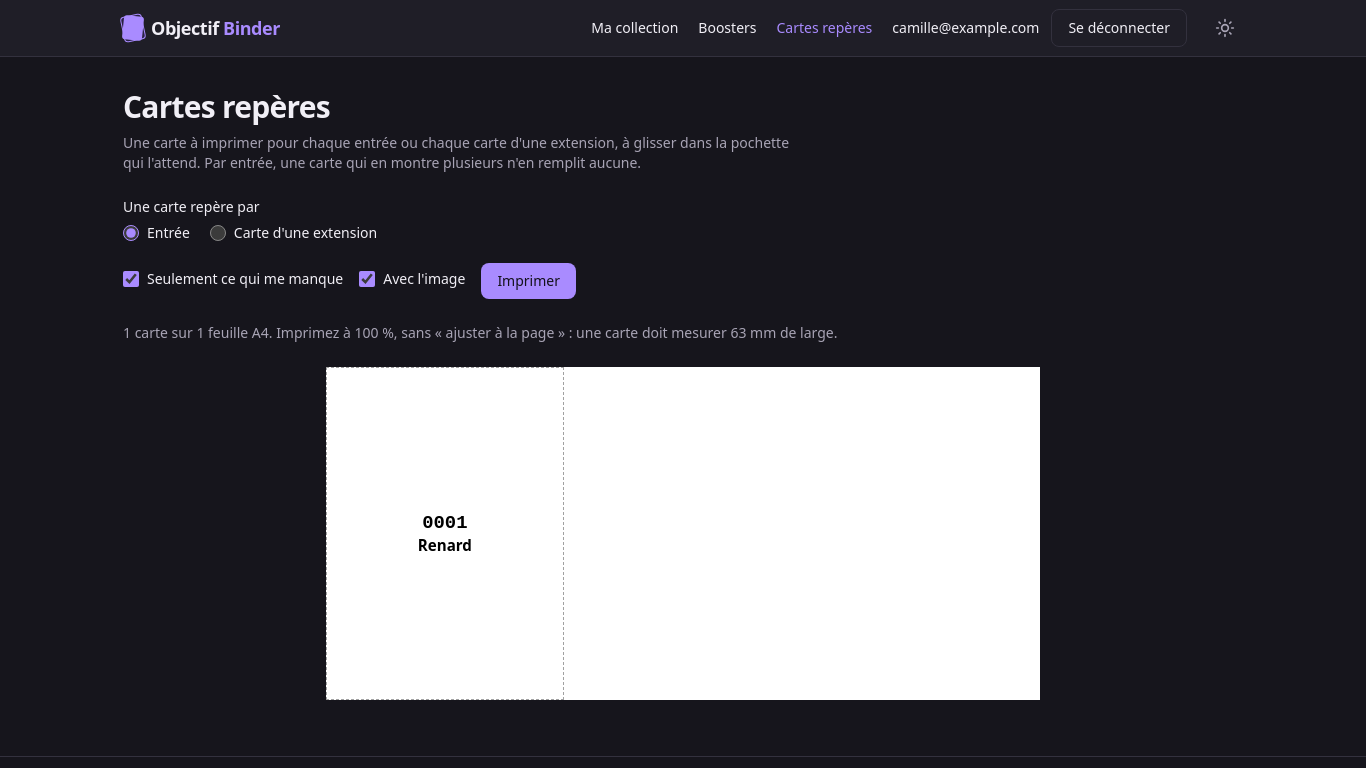
Test: placeholders to print › prints every identity once told not to keep to what is missing
Check: the text "Renard" is shown, box left=418, top=535, right=472, bottom=555
Click the checkbox labelled "Seulement ce qui me manque".
click(131, 279)  # box left=123, top=271, right=139, bottom=287
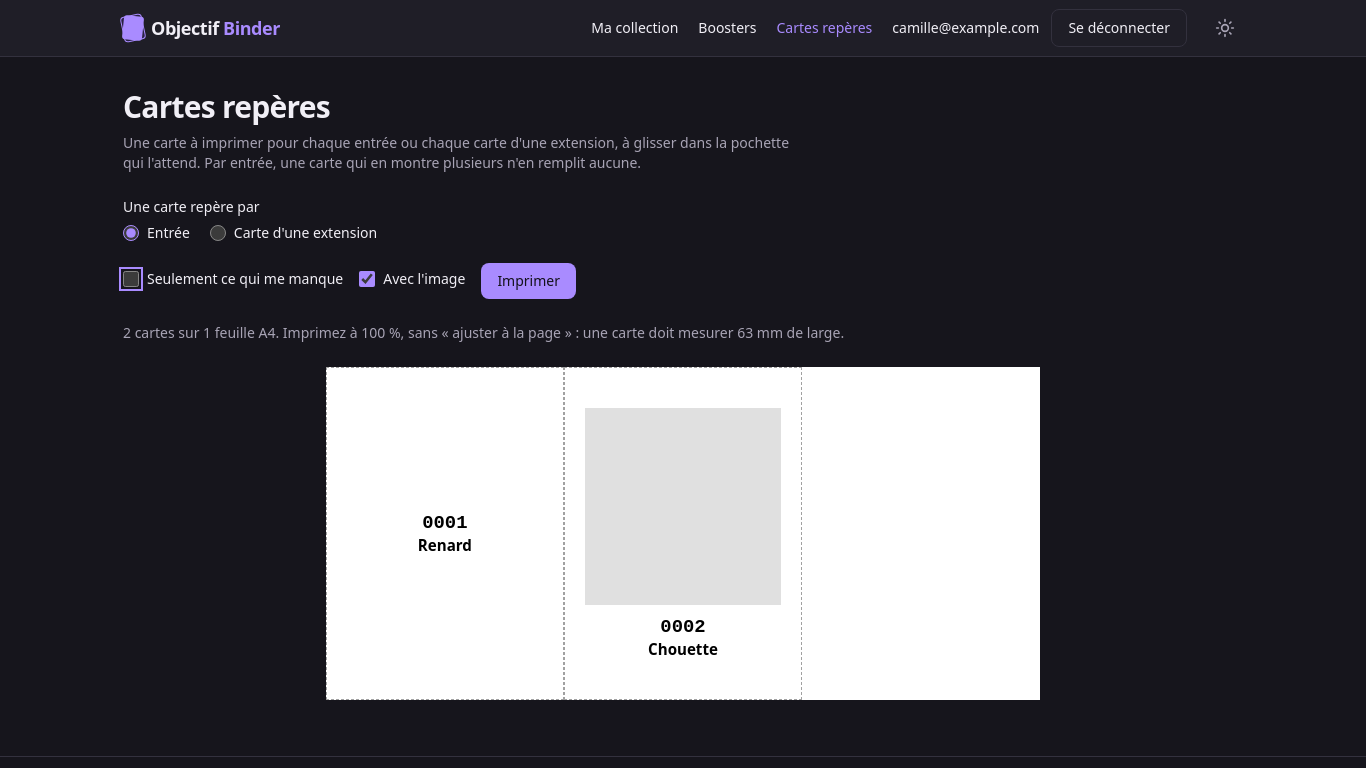
Check: the text "2 cartes sur 1 feuille A4" is shown, box left=123, top=323, right=844, bottom=342
